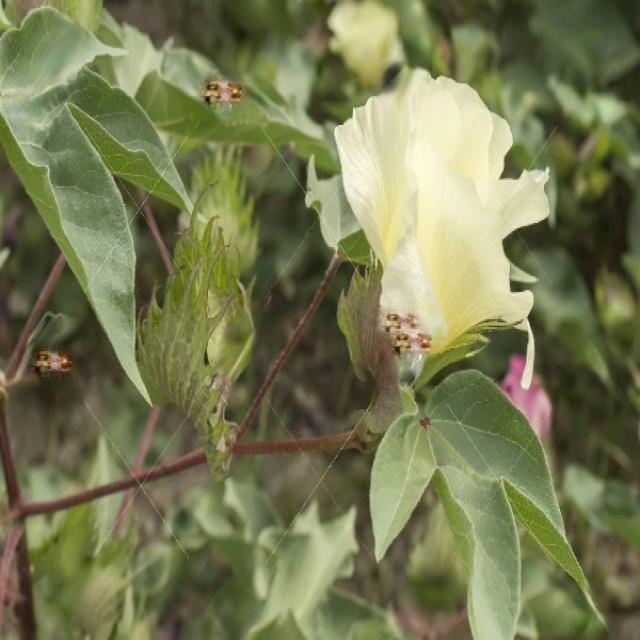Cotton Blossom: (334, 61, 533, 438)
Cotton Bud: (136, 197, 253, 460)
